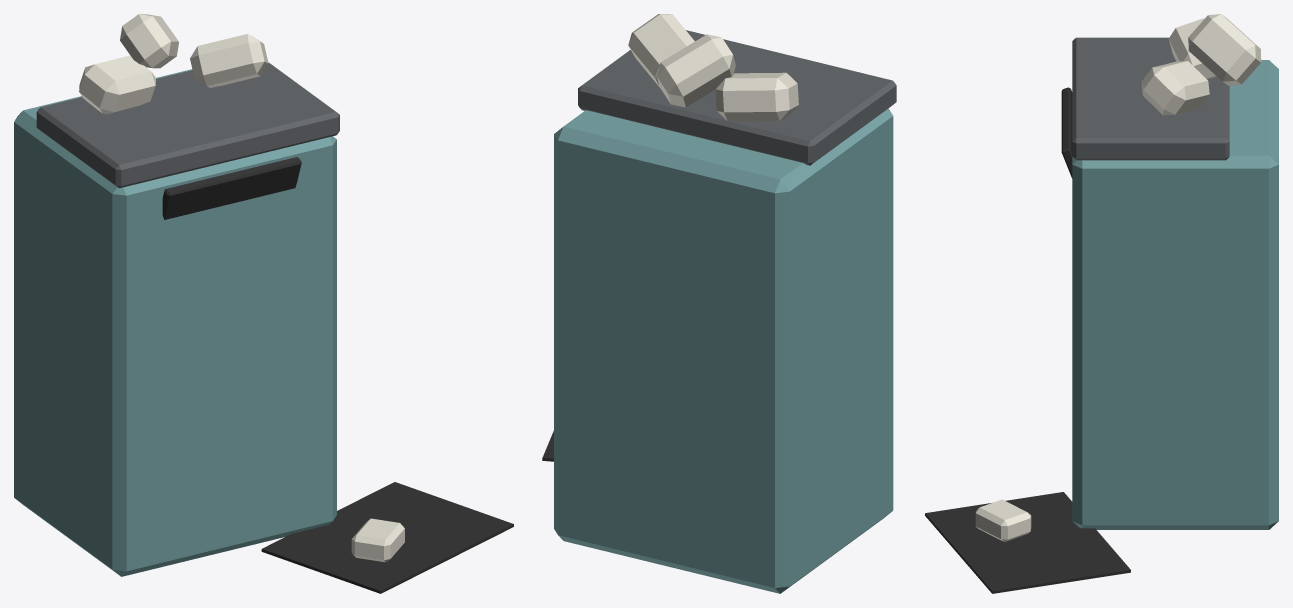
File: waste_bin.glb
3 views of the same model, side by side, from view 1: azimuth 30°, elevation 25°; view 2: azimuth 150°, elevation 25°; view 3: azimuth 270°, elevation 25° (orthographic). The views are drawn at different scales.
Visible parts, largest first — view 1: waste_bin; view 2: waste_bin; view 3: waste_bin.
Part boxes in pixels (bbox=[...]): waste_bin: bbox=[14, 14, 513, 593]; waste_bin: bbox=[542, 14, 896, 593]; waste_bin: bbox=[925, 14, 1278, 593].
Size of the model in its own units: 0.7892 by 1.04 by 0.7194.
